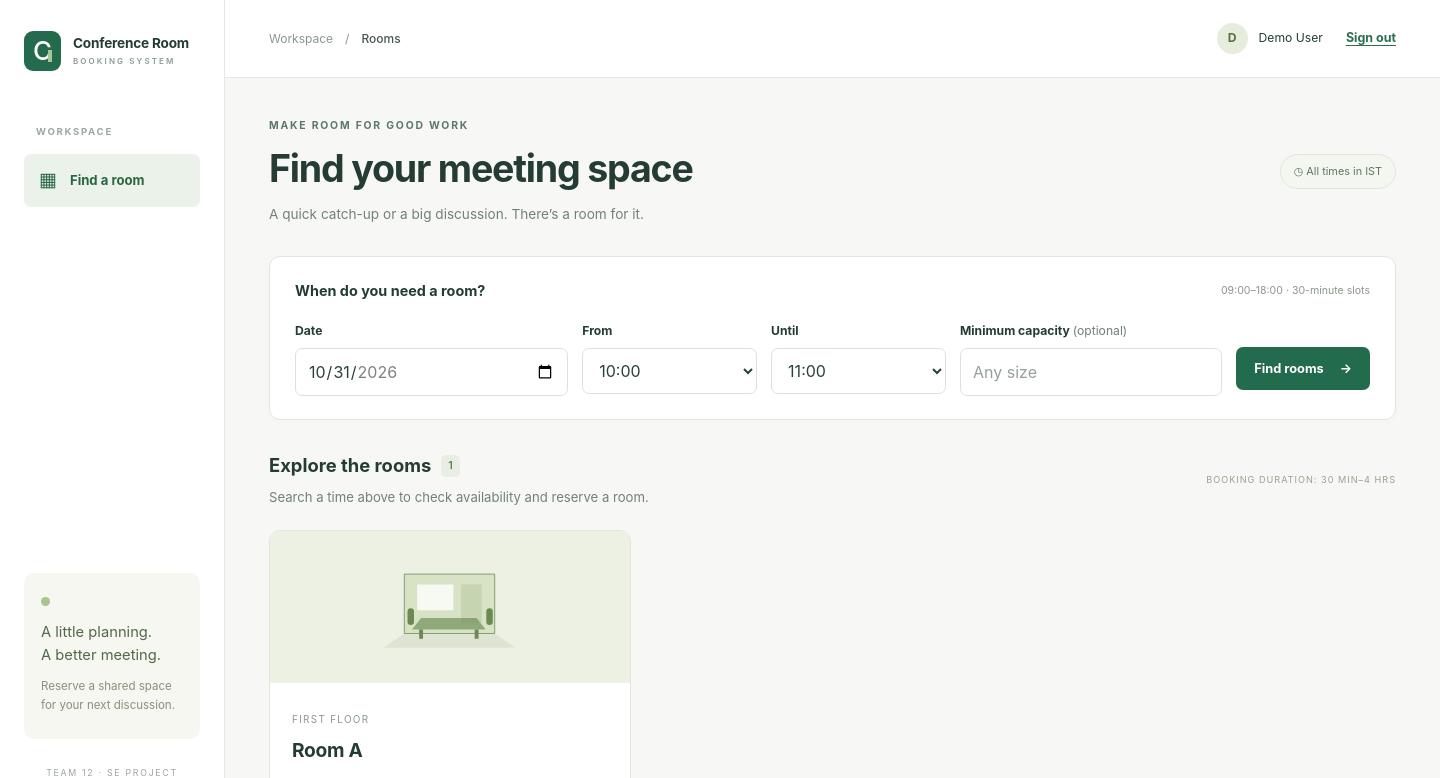
Scenario: TC04 / TC05 / TC06 / TC07 booking flow › shows inline interval errors without sending an invalid search
The image size is (1440, 778).
Expected: the heading "Room A" is shown, [292, 738, 362, 762]
Select "09:30" in the dropdown labelled "Until" at (859, 371), box [771, 348, 946, 394]
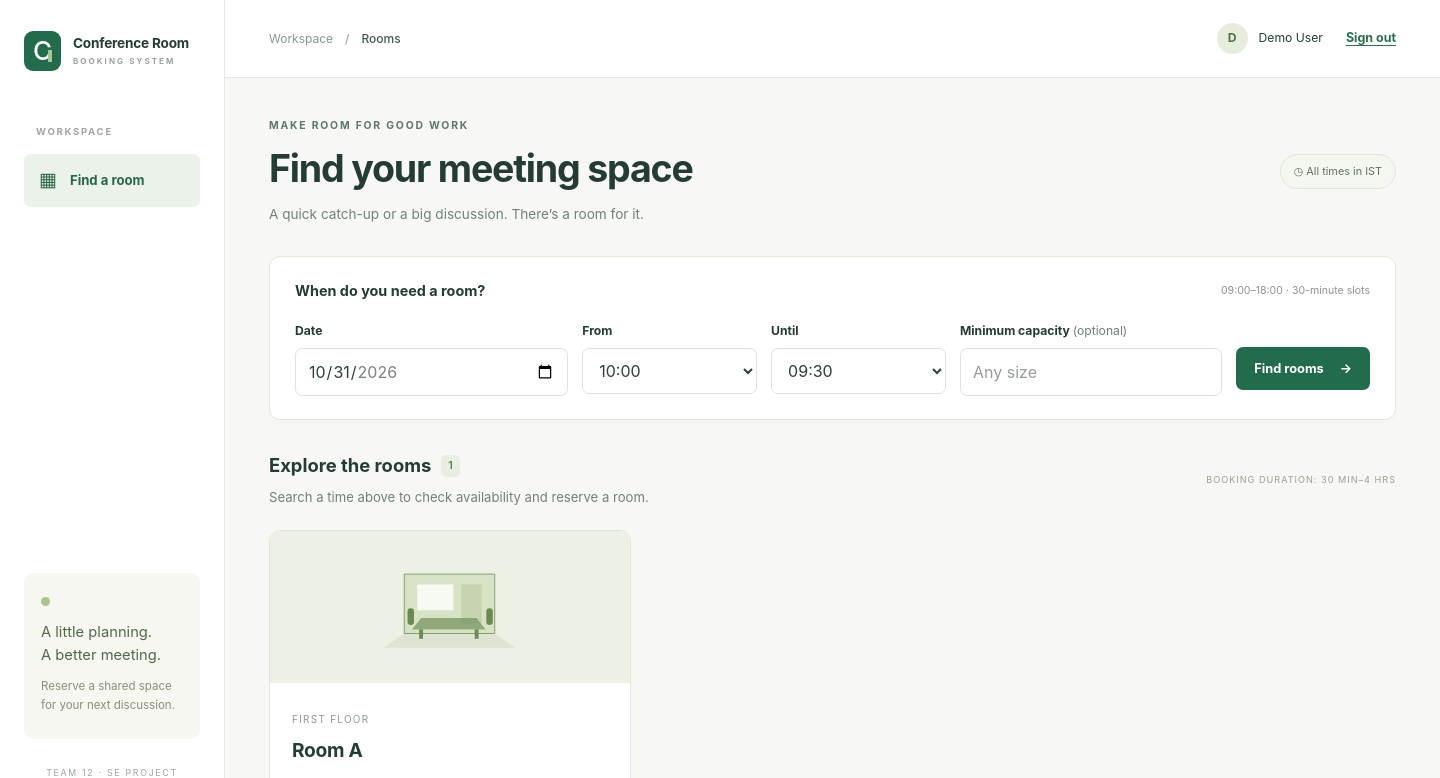
Click the button "Find rooms →".
click(1303, 368)  # box [1236, 347, 1370, 390]
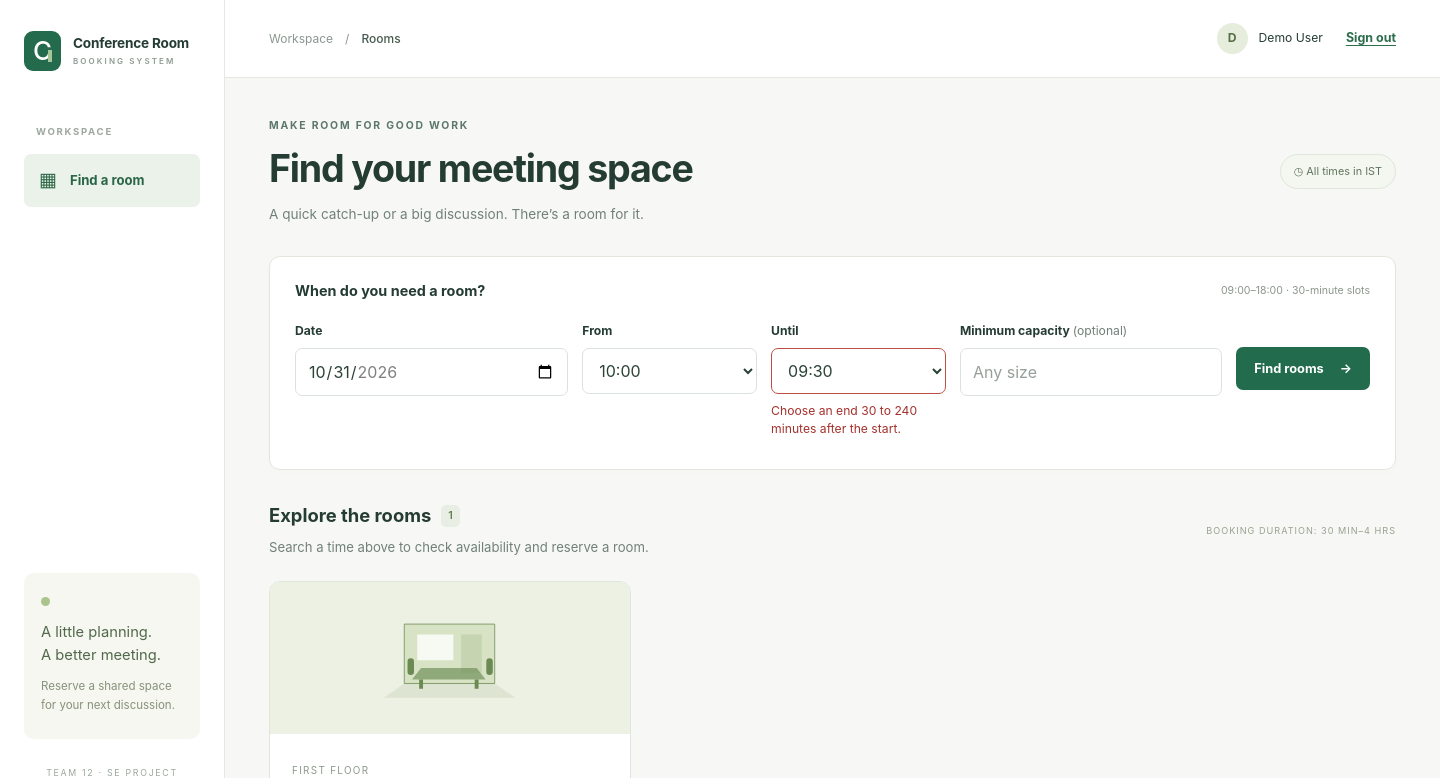
Now the text "Choose an end 30 to 240 minutes after the start." is shown, box [771, 403, 917, 436]
